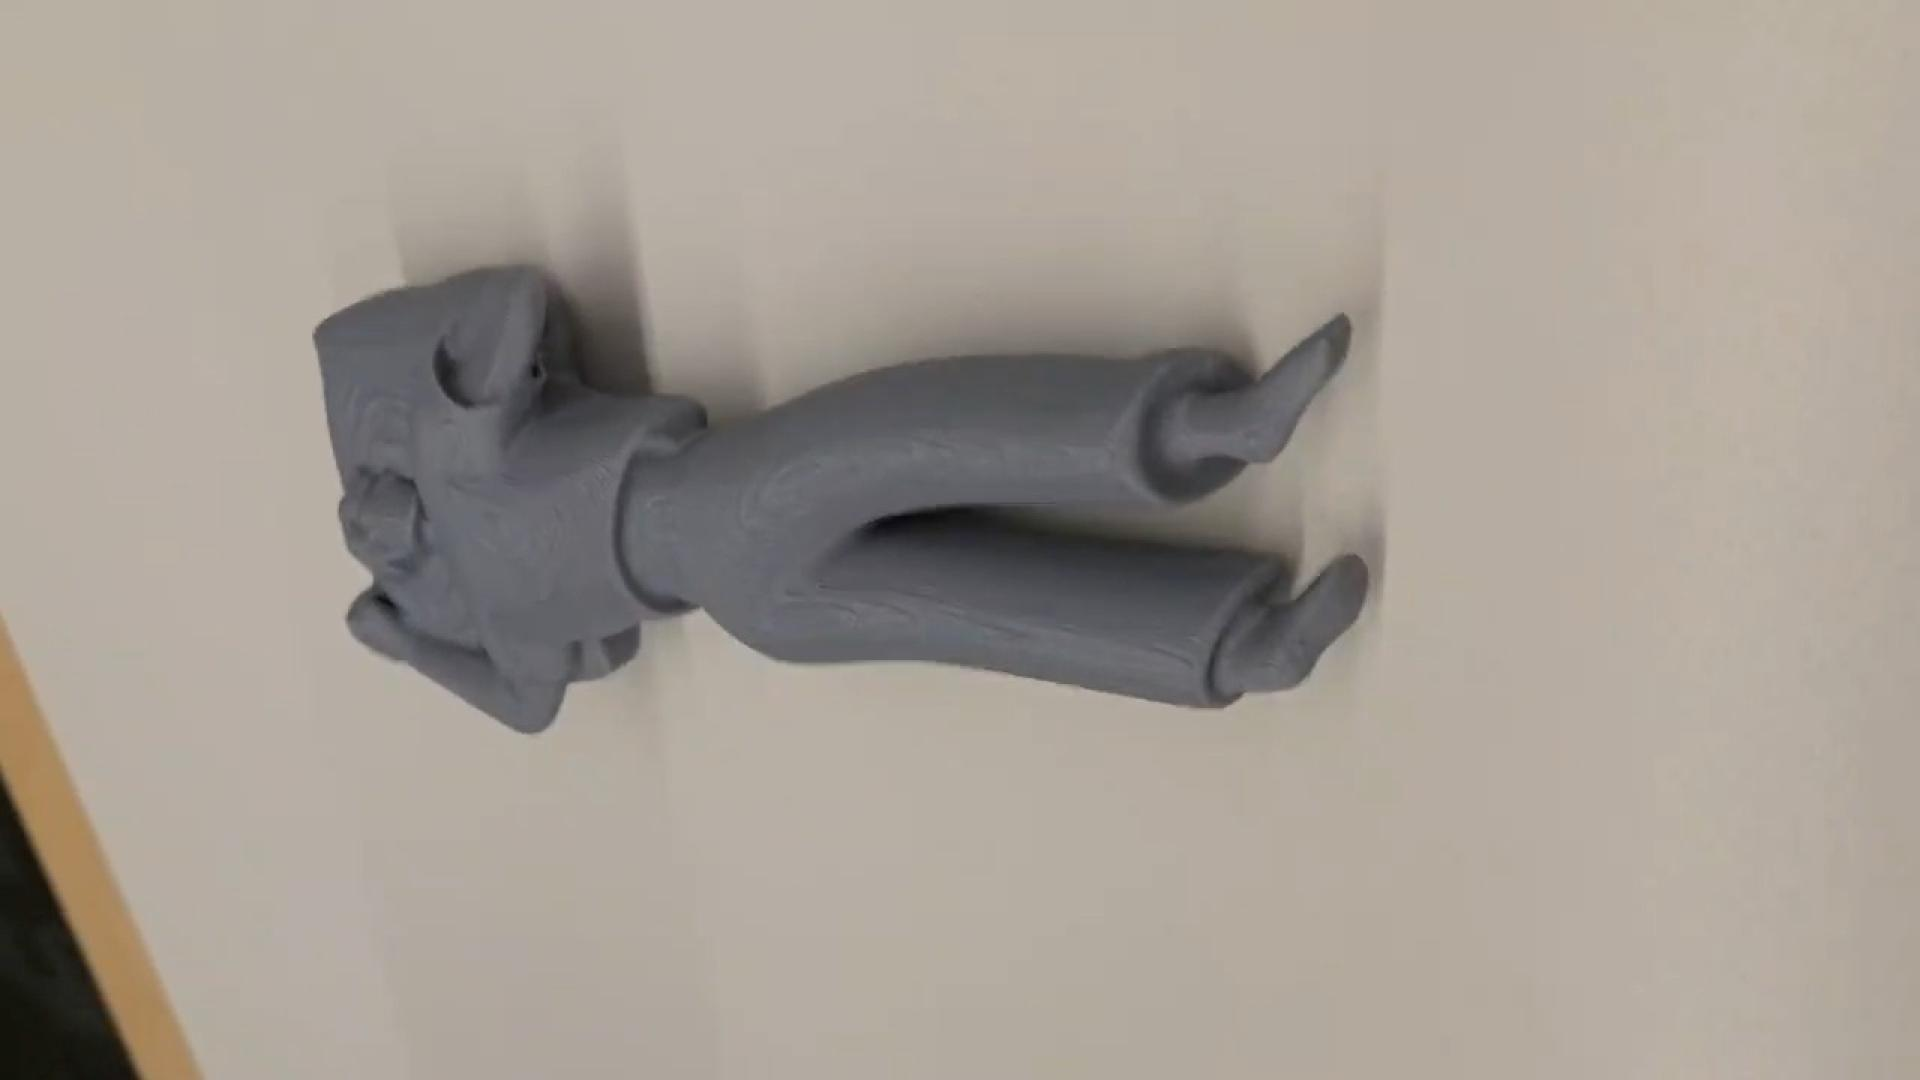Bad-style: (314, 264, 1375, 729)
